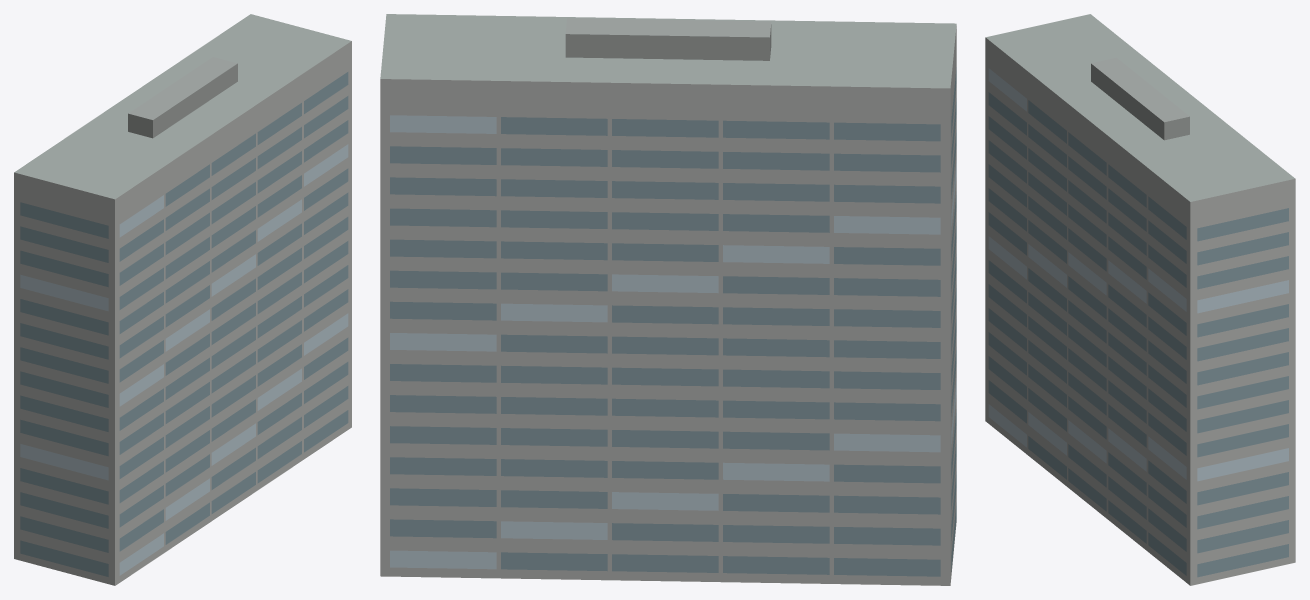
The model's file is fallback-dmc-raemian-e-pyeonhansesang-214.glb.
3 renders of one model, left to right at view 1: azimuth 30°, elevation 25°; view 2: azimuth 150°, elevation 25°; view 3: azimuth 270°, elevation 25°, orthographic. The views are drawn at different scales.
Visible parts, largest first — view 1: fallback-dmc-raemian-e-pyeonhansesang-214; view 2: fallback-dmc-raemian-e-pyeonhansesang-214; view 3: fallback-dmc-raemian-e-pyeonhansesang-214.
Part boxes in pixels (x1=…): fallback-dmc-raemian-e-pyeonhansesang-214: x1=14, y1=14, x2=351, y2=585; fallback-dmc-raemian-e-pyeonhansesang-214: x1=380, y1=14, x2=956, y2=585; fallback-dmc-raemian-e-pyeonhansesang-214: x1=985, y1=14, x2=1295, y2=585.
Bounding box in the file's own units: 49.16 × 49 × 34.25.
